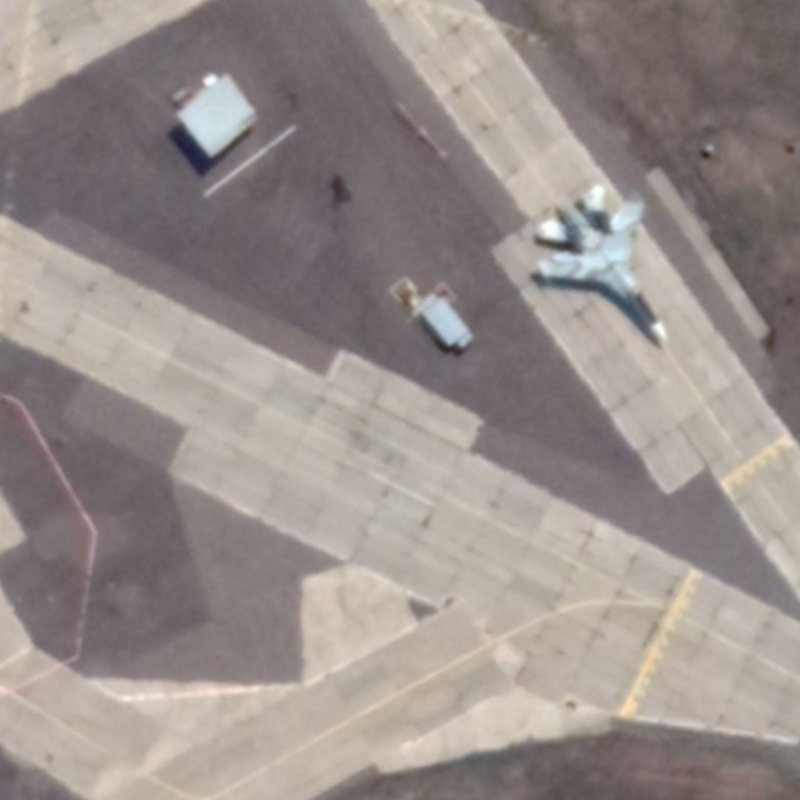A1: (528, 182, 672, 346)
